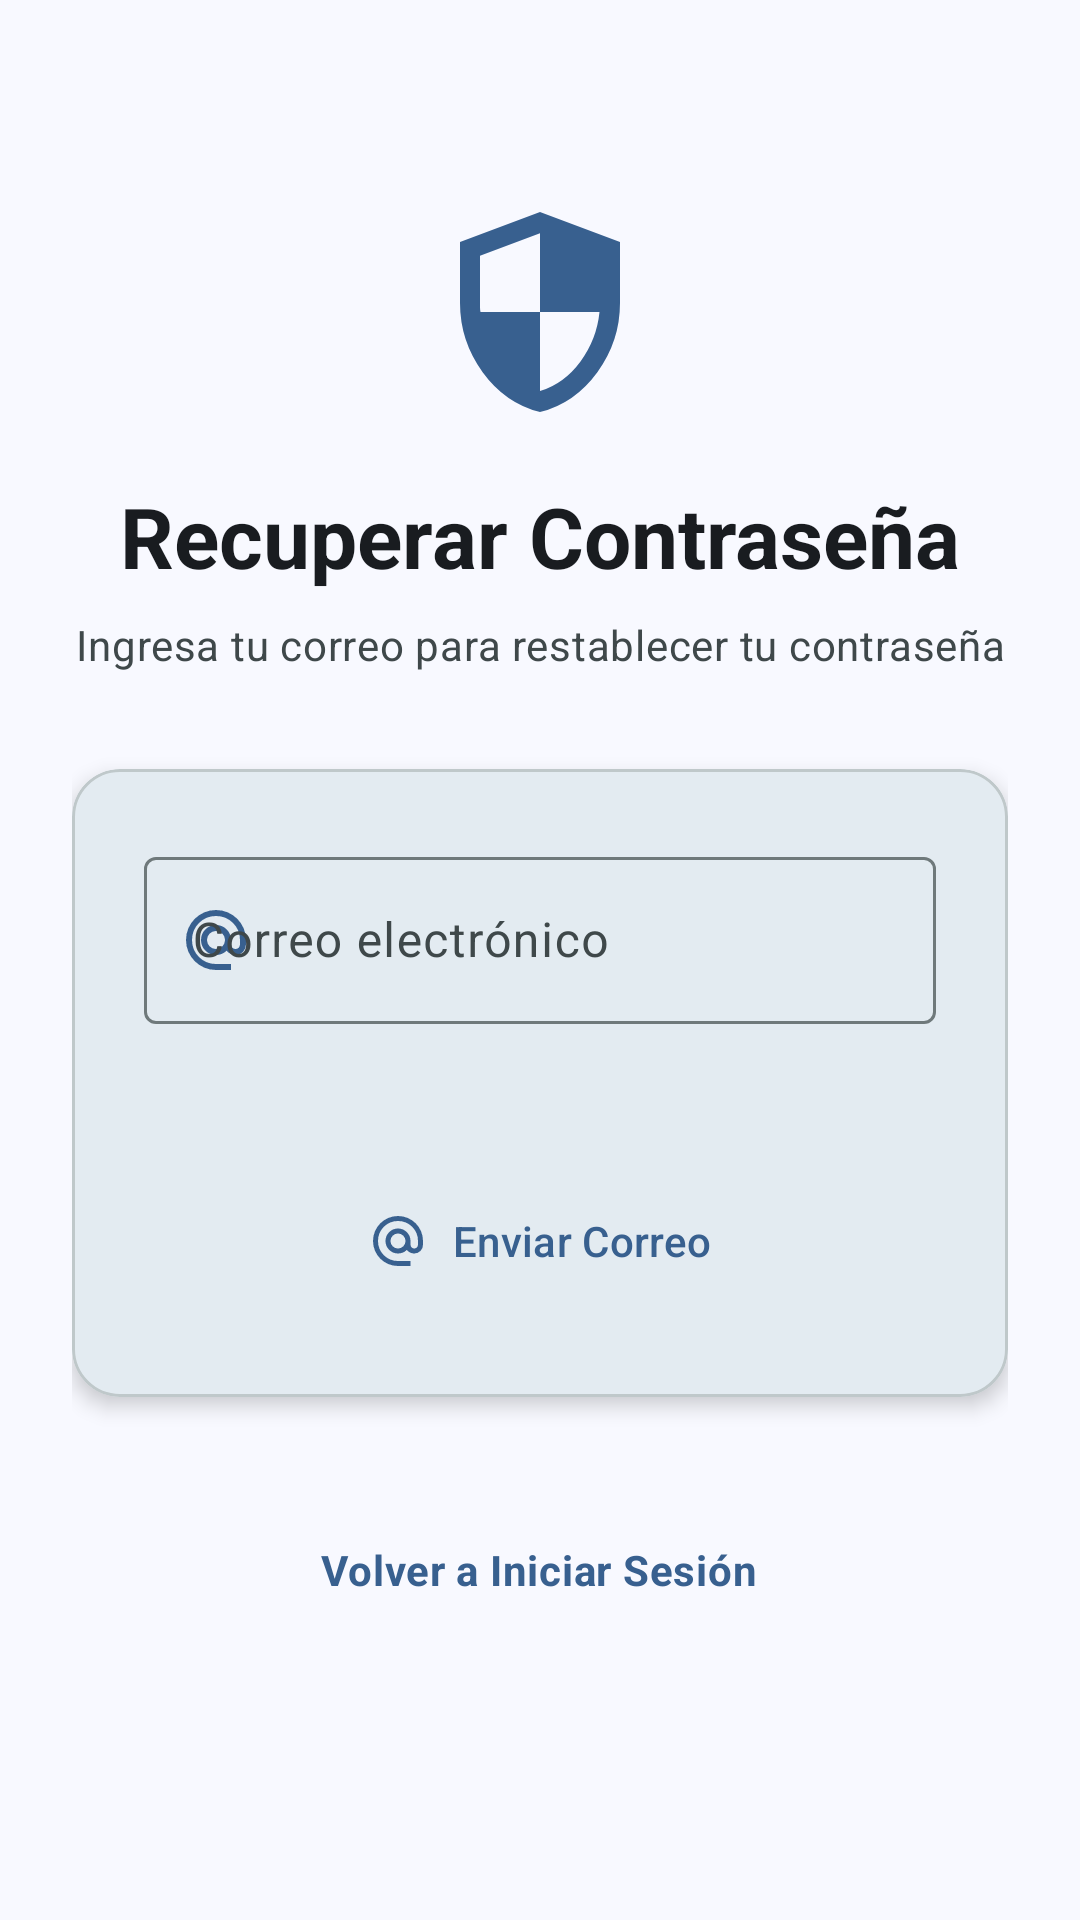

Icons on this 1080w x 1920h Android screen, each with its box as (x1, y1, x2, y2):
security: (460, 212, 620, 412)
